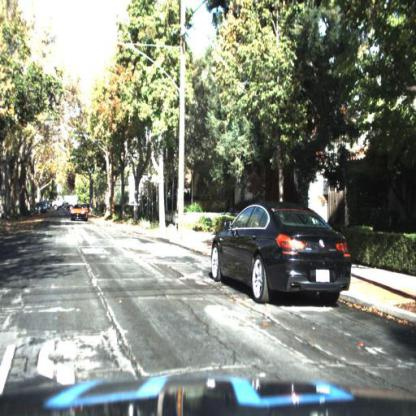car: (210, 200, 354, 310), (209, 200, 359, 302), (70, 200, 90, 226)
